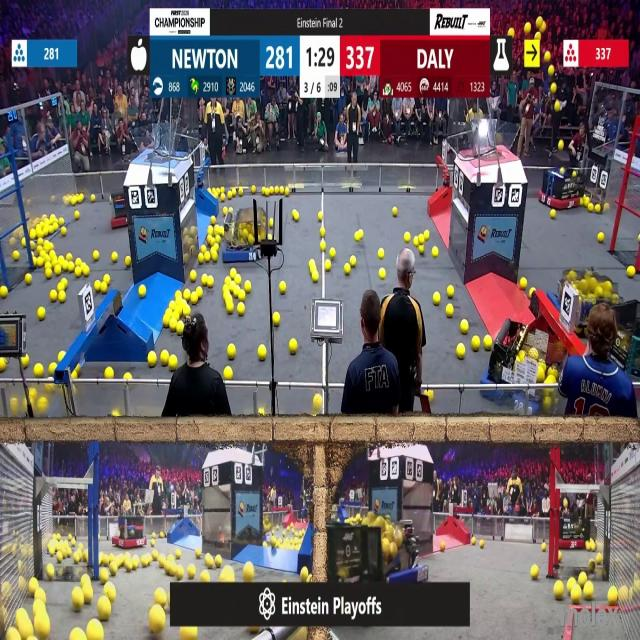ball_airborne: (543, 53, 549, 65), (525, 24, 532, 34), (556, 101, 562, 112), (558, 140, 564, 151), (536, 16, 542, 27), (539, 23, 545, 34), (552, 84, 558, 94), (546, 66, 552, 76), (534, 32, 540, 40), (563, 498, 568, 507)
ball_ground: (149, 608, 166, 636), (99, 598, 111, 621), (72, 590, 84, 612), (89, 622, 103, 640), (607, 589, 617, 607), (244, 563, 254, 581), (158, 589, 168, 607), (570, 589, 580, 606), (221, 567, 233, 581), (555, 582, 564, 600), (584, 585, 594, 601), (107, 586, 116, 602), (184, 628, 196, 640), (314, 394, 322, 410), (86, 588, 94, 604), (9, 398, 17, 414), (169, 355, 178, 369), (289, 340, 297, 355), (71, 630, 83, 640), (100, 567, 108, 582), (258, 346, 266, 360), (531, 565, 539, 579), (471, 338, 479, 352), (457, 345, 465, 359), (46, 564, 54, 578), (148, 352, 156, 366), (30, 577, 38, 591), (7, 630, 18, 640), (273, 313, 281, 326), (187, 565, 195, 578), (162, 351, 170, 364), (446, 305, 454, 318), (460, 321, 468, 334), (176, 321, 184, 334), (105, 366, 114, 377), (226, 302, 233, 316), (227, 345, 234, 359), (485, 337, 492, 351), (224, 366, 232, 378), (35, 363, 43, 375), (22, 355, 30, 367), (206, 556, 214, 568), (578, 572, 586, 584), (142, 556, 150, 568), (48, 252, 56, 264), (131, 558, 139, 570), (238, 304, 245, 317), (302, 567, 309, 580), (177, 566, 184, 579), (0, 286, 8, 297), (49, 290, 57, 301), (202, 570, 210, 581), (110, 563, 118, 574), (433, 292, 440, 304), (38, 308, 45, 320), (628, 267, 635, 279), (0, 358, 6, 372), (292, 210, 299, 222), (214, 556, 222, 566), (81, 574, 89, 584), (26, 274, 33, 285), (123, 255, 130, 266), (49, 362, 56, 373), (198, 286, 205, 297), (160, 557, 167, 568), (60, 290, 66, 302), (140, 286, 146, 298), (520, 278, 526, 290), (313, 272, 319, 284), (280, 282, 286, 294), (82, 266, 88, 278), (45, 268, 51, 280), (308, 261, 314, 273), (324, 262, 331, 272), (59, 351, 66, 361), (190, 293, 197, 303), (183, 306, 190, 316), (101, 284, 108, 294), (245, 282, 252, 292), (94, 250, 101, 260), (239, 290, 246, 300), (170, 320, 177, 330), (380, 269, 386, 280), (379, 248, 385, 259), (448, 286, 454, 297), (208, 276, 214, 287), (329, 248, 335, 259), (95, 281, 101, 292), (202, 275, 208, 286), (165, 316, 171, 327), (231, 270, 237, 281), (74, 553, 80, 564), (420, 235, 426, 246), (74, 257, 82, 265), (58, 282, 66, 290), (12, 251, 19, 260), (413, 238, 420, 247), (45, 242, 52, 251), (598, 234, 604, 244), (403, 234, 409, 244), (431, 247, 437, 257), (189, 272, 195, 282), (111, 252, 117, 262), (350, 256, 356, 266), (345, 266, 351, 276), (212, 251, 218, 261), (75, 268, 81, 278), (68, 264, 74, 274), (355, 232, 361, 242), (104, 275, 110, 285), (199, 252, 205, 262), (56, 267, 62, 277), (183, 290, 189, 300), (33, 256, 39, 266), (596, 554, 602, 564), (58, 553, 64, 563), (427, 390, 433, 400), (235, 276, 242, 284), (126, 373, 133, 381), (551, 210, 557, 219), (595, 204, 601, 213), (74, 211, 80, 220), (258, 409, 264, 418), (176, 290, 182, 299), (578, 199, 584, 208), (588, 204, 594, 213), (59, 255, 65, 264), (208, 225, 214, 234), (318, 212, 324, 221), (30, 241, 36, 250), (61, 226, 67, 235), (19, 239, 25, 248), (222, 285, 228, 294), (182, 254, 188, 263), (320, 241, 325, 251), (83, 552, 88, 562), (587, 540, 592, 550), (195, 550, 201, 558), (210, 216, 216, 224), (269, 218, 275, 226), (67, 252, 73, 260), (540, 542, 546, 550), (151, 552, 157, 560), (169, 554, 175, 562), (284, 188, 290, 196), (176, 551, 181, 560), (78, 193, 83, 202), (392, 208, 397, 216), (424, 232, 429, 240), (92, 193, 97, 201), (320, 230, 325, 238), (470, 536, 475, 544), (60, 217, 65, 225), (72, 369, 77, 377), (251, 185, 256, 193), (227, 190, 232, 198), (170, 302, 175, 310), (215, 236, 220, 244), (442, 540, 446, 549), (112, 412, 118, 418), (224, 277, 229, 284), (201, 245, 206, 252), (222, 208, 227, 215), (239, 188, 244, 195), (420, 246, 424, 254), (481, 539, 485, 547), (220, 193, 224, 200), (151, 539, 155, 546)
goal: (465, 122, 521, 160), (131, 130, 188, 160)
robot_blue: (479, 322, 544, 409), (360, 518, 423, 594), (554, 267, 618, 324), (222, 208, 269, 267)
robot_red: (539, 153, 589, 210), (609, 305, 640, 378), (556, 504, 592, 549), (114, 516, 146, 549), (109, 191, 128, 229)
